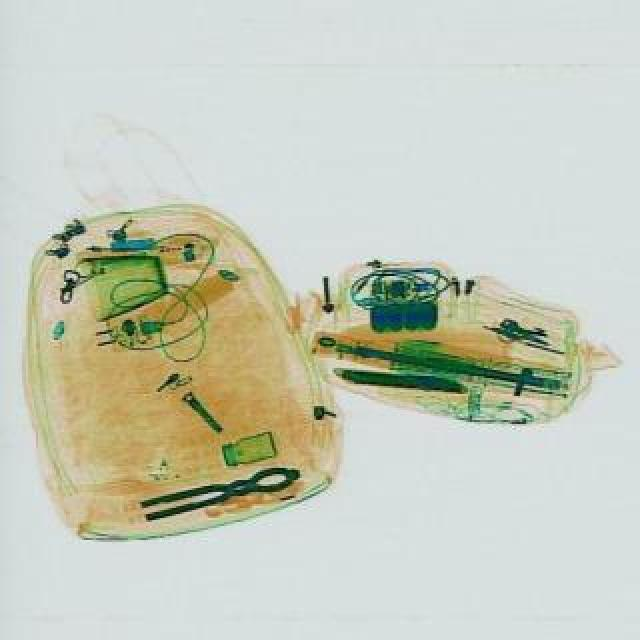wrench: (136, 462, 298, 522)
